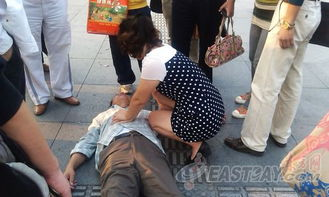fall: (62, 84, 197, 194)
